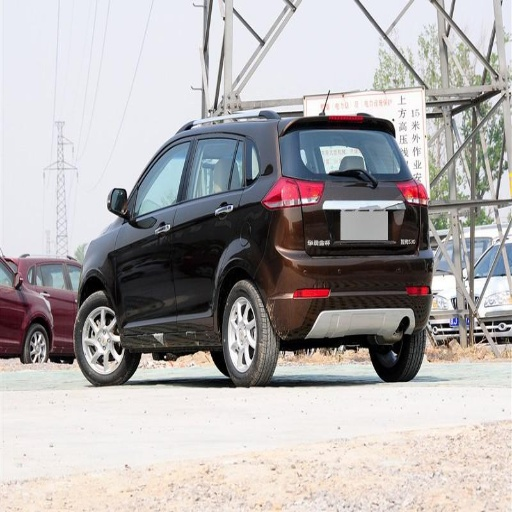back_bumper: (269, 253, 431, 341)
back_glass: (283, 126, 406, 182)
back_left_door: (175, 133, 243, 326)
trunk: (299, 180, 422, 288)
